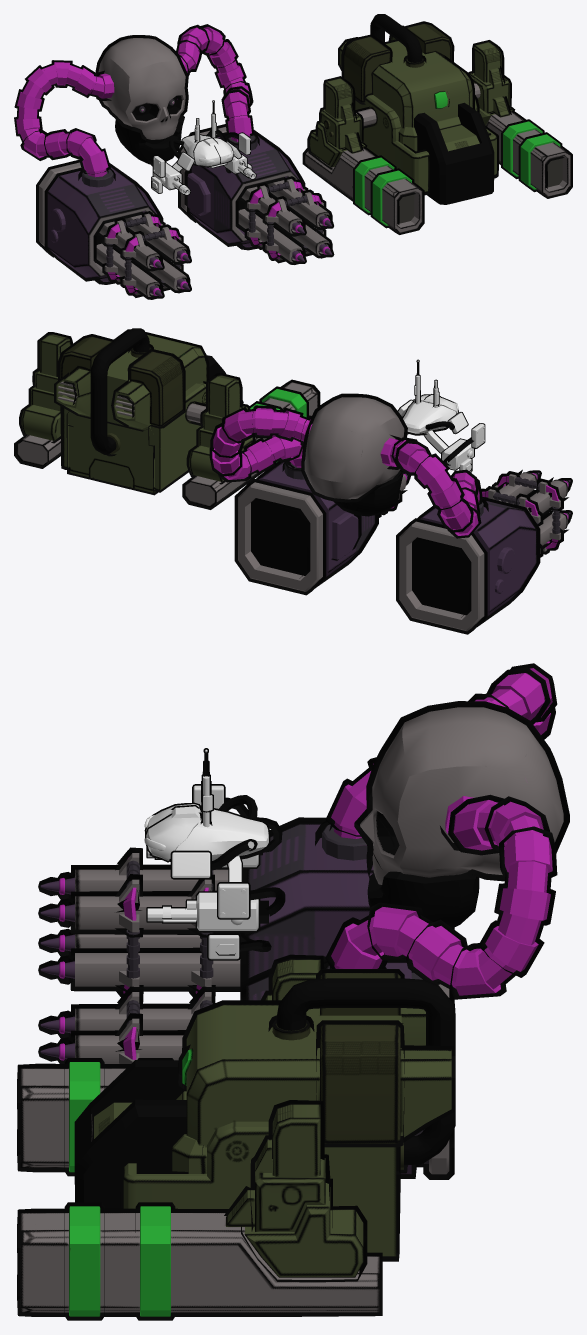
Rendered from descent_enemies.fbx.
3 renders of one model, top to bottom at view 1: azimuth 30°, elevation 25°; view 2: azimuth 150°, elevation 25°; view 3: azimuth 270°, elevation 25°, orthographic. The views are drawn at different scales.
Visible parts, largest first — view 1: main_low (×2), minigun_low (×2), braccia_low (×2), cannone_low (×3), head_low (×2), body_sopra_low, maschera_low, guarnizione_cannone_low (×2), corazza_low (×2), blocco2_low (×2), placche_low, blocco3_low (×2) (+14 smaller); view 2: main_low (×2), braccia_low (×2), head_low (×2), body_sopra_low (×2), corazza_low (×3), body_sotto_low, cannone_low (×3), placche_low, minigun_low (×2), blocco1_low (×2), tubo_low, blocco3_low (×2) (+9 smaller); view 3: cannone_low (×3), braccia_low (×2), head_low (×2), minigun_low (×2), body_sopra_low (×2), main_low (×2), corazza_low (×2), maschera_low, placche_low, guarnizione_cannone_low (×2), tubo_low, blocco1_low (×2) (+14 smaller).
Boxes of the visible parts, x1,y1,x2,y2 form: main_low (×2): (36, 124, 305, 281); minigun_low (×2): (96, 176, 332, 299); braccia_low (×2): (14, 24, 254, 177); cannone_low (×3): (153, 108, 572, 234); head_low (×2): (95, 35, 188, 139); body_sopra_low: (340, 36, 472, 128); maschera_low: (414, 102, 494, 204); guarnizione_cannone_low (×2): (352, 119, 562, 228); corazza_low (×2): (187, 95, 496, 215); blocco2_low (×2): (319, 66, 511, 153); placche_low: (343, 23, 451, 102); blocco3_low (×2): (323, 40, 504, 118); main_low (×2): (234, 461, 540, 634); braccia_low (×2): (209, 405, 482, 538); head_low (×2): (301, 393, 407, 502); body_sopra_low (×2): (54, 329, 209, 431); corazza_low (×3): (60, 381, 358, 561); body_sotto_low: (69, 412, 155, 492); cannone_low (×3): (14, 379, 473, 509); placche_low: (60, 336, 183, 426); minigun_low (×2): (379, 469, 568, 557); blocco1_low (×2): (19, 386, 254, 484); tubo_low: (90, 328, 149, 454); blocco3_low (×2): (37, 332, 242, 417); cannone_low (×3): (17, 855, 382, 1316); braccia_low (×2): (325, 663, 557, 999); head_low (×2): (354, 701, 569, 884); minigun_low (×2): (70, 847, 240, 1063); body_sopra_low (×2): (182, 1000, 455, 1145); main_low (×2): (240, 817, 454, 1179); corazza_low (×2): (119, 1121, 400, 1259); maschera_low: (74, 1060, 186, 1208); placche_low: (320, 973, 400, 1143); guarnizione_cannone_low (×2): (64, 1058, 175, 1320); tubo_low: (276, 978, 455, 1165); blocco1_low (×2): (241, 1178, 367, 1282).
Bounding box in the file's own units: 32.61 × 13.83 × 17.86.
Materials: 4 (2 with a texture image).
